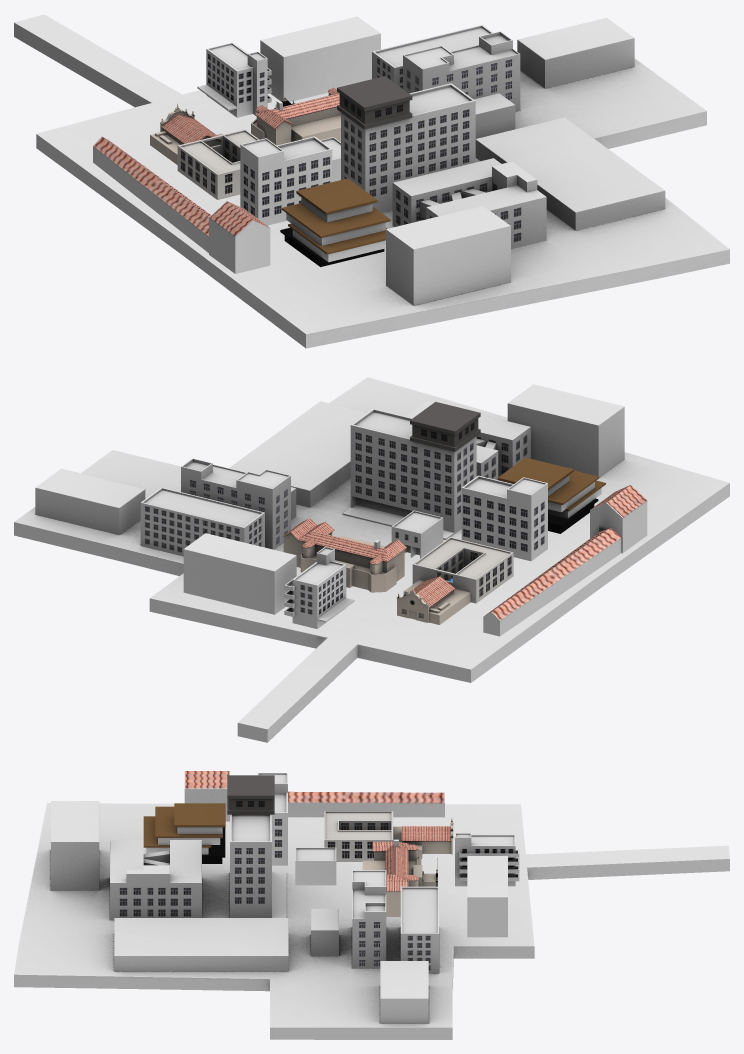
File: ssxs.gltf
3 renders of one model, top to bottom at view 1: azimuth 30°, elevation 25°; view 2: azimuth 150°, elevation 25°; view 3: azimuth 270°, elevation 25°, orthographic. The views are drawn at different scales.
Parts seen in each view (by area): view 1: polySurface4, polySurface18 polySurface54, polySurface18 polySurface20, polySurface18 polySurface69, polySurface18 polySurface40, polySurface18 polySurface71, polySurface18 polySurface29, polySurface18 polySurface67, polySurface18 polySurface56, polySurface18 polySurface55, polySurface18 polySurface19, polySurface18 polySurface60 (+4 smaller); view 2: polySurface4, polySurface18 polySurface54, polySurface18 polySurface20, polySurface18 polySurface69, polySurface18 polySurface40, polySurface18 polySurface29, polySurface18 polySurface71, polySurface18 polySurface19, polySurface18 polySurface59, polySurface18 polySurface56, polySurface18 polySurface36, polySurface18 polySurface60 (+6 smaller); view 3: polySurface4, polySurface18 polySurface69, polySurface18 polySurface54, polySurface18 polySurface29, polySurface18 polySurface40, polySurface18 polySurface59, polySurface18 polySurface56, polySurface18 polySurface71, polySurface18 polySurface20, polySurface18 polySurface19, polySurface18 polySurface67, polySurface18 polySurface28 (+4 smaller).
Boxes of the visible parts, x1=… form: polySurface4: x1=14, y1=14, x2=729, y2=348; polySurface18 polySurface54: x1=260, y1=16, x2=380, y2=101; polySurface18 polySurface20: x1=240, y1=136, x2=332, y2=225; polySurface18 polySurface69: x1=93, y1=136, x2=210, y2=252; polySurface18 polySurface40: x1=197, y1=42, x2=267, y2=117; polySurface18 polySurface71: x1=209, y1=201, x2=270, y2=273; polySurface18 polySurface29: x1=178, y1=130, x2=259, y2=199; polySurface18 polySurface67: x1=281, y1=203, x2=390, y2=245; polySurface18 polySurface56: x1=296, y1=178, x2=377, y2=222; polySurface18 polySurface55: x1=288, y1=223, x2=386, y2=262; polySurface18 polySurface19: x1=255, y1=93, x2=339, y2=128; polySurface18 polySurface60: x1=257, y1=107, x2=340, y2=145; polySurface4: x1=14, y1=377, x2=729, y2=742; polySurface18 polySurface54: x1=183, y1=533, x2=296, y2=614; polySurface18 polySurface20: x1=461, y1=475, x2=547, y2=561; polySurface18 polySurface69: x1=483, y1=528, x2=621, y2=636; polySurface18 polySurface40: x1=292, y1=546, x2=354, y2=628; polySurface18 polySurface29: x1=414, y1=537, x2=513, y2=602; polySurface18 polySurface71: x1=590, y1=485, x2=647, y2=553; polySurface18 polySurface19: x1=282, y1=518, x2=406, y2=561; polySurface18 polySurface59: x1=391, y1=510, x2=443, y2=558; polySurface18 polySurface56: x1=497, y1=457, x2=573, y2=496; polySurface18 polySurface36: x1=300, y1=552, x2=396, y2=592; polySurface18 polySurface60: x1=283, y1=532, x2=404, y2=581; polySurface4: x1=14, y1=775, x2=729, y2=1039; polySurface18 polySurface69: x1=288, y1=791, x2=444, y2=817; polySurface18 polySurface54: x1=467, y1=856, x2=507, y2=937; polySurface18 polySurface29: x1=324, y1=811, x2=391, y2=861; polySurface18 polySurface40: x1=455, y1=833, x2=515, y2=886; polySurface18 polySurface59: x1=295, y1=847, x2=336, y2=885; polySurface18 polySurface56: x1=174, y1=803, x2=225, y2=833; polySurface18 polySurface71: x1=184, y1=771, x2=230, y2=821; polySurface18 polySurface20: x1=257, y1=773, x2=287, y2=865; polySurface18 polySurface19: x1=372, y1=841, x2=408, y2=891; polySurface18 polySurface67: x1=155, y1=806, x2=222, y2=844; polySurface18 polySurface28: x1=401, y1=826, x2=451, y2=841.
Bounding box in the file's own units: 19.35 × 4.38 × 26.1.
2 materials, 2 textured.
